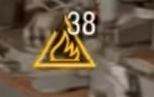1fire: (30, 39, 99, 68)
